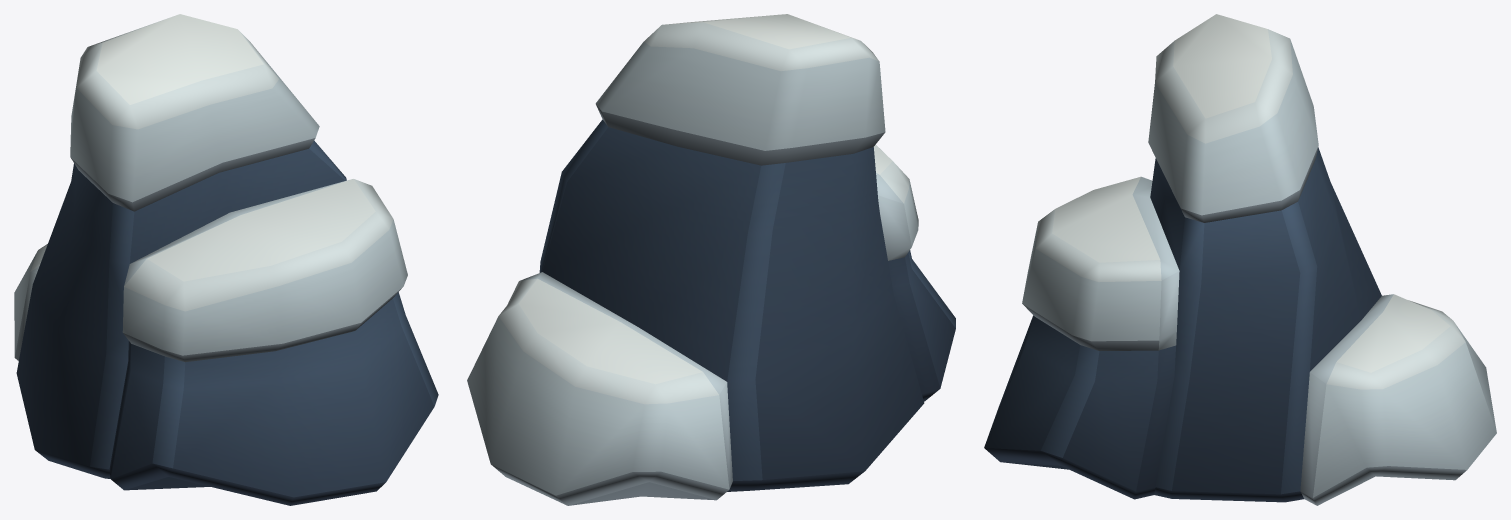
Rendered from rock_snow_06.fbx.
3 renders of one model, left to right at view 1: azimuth 30°, elevation 25°; view 2: azimuth 150°, elevation 25°; view 3: azimuth 270°, elevation 25°, orthographic. The views are drawn at different scales.
Visible parts, largest first — view 1: rock_snow_06; view 2: rock_snow_06; view 3: rock_snow_06.
Part boxes in pixels (box(x1,y1,x2,y2)): rock_snow_06: box(14, 14, 438, 505); rock_snow_06: box(467, 14, 955, 505); rock_snow_06: box(984, 14, 1496, 505).
Bounding box in the file's own units: 138 × 174 × 198.
